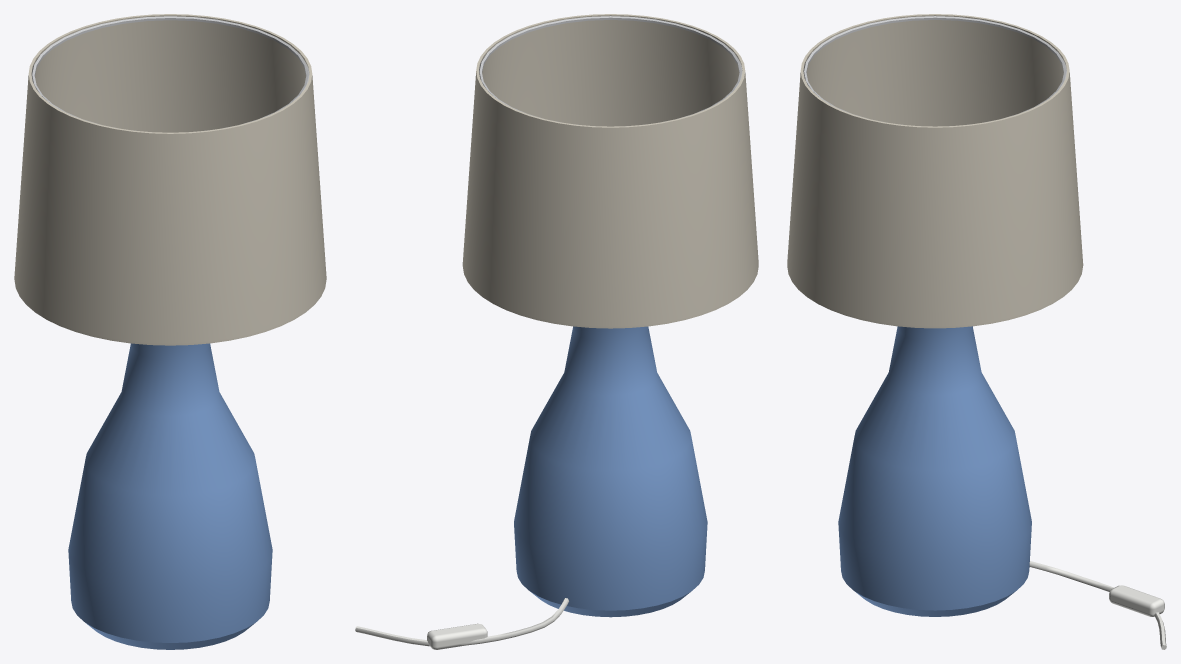
Rendered from furniture_lamp_bedside.fbx.
3 renders of one model, left to right at view 1: azimuth 30°, elevation 25°; view 2: azimuth 150°, elevation 25°; view 3: azimuth 270°, elevation 25°, orthographic. The views are drawn at different scales.
Parts seen in each view (by area): view 1: furniture_lamp_bedside; view 2: furniture_lamp_bedside; view 3: furniture_lamp_bedside.
Boxes of the visible parts, bbox=[...] form: furniture_lamp_bedside: bbox=[14, 14, 326, 649]; furniture_lamp_bedside: bbox=[355, 14, 758, 649]; furniture_lamp_bedside: bbox=[787, 14, 1166, 649].
Bounding box in the file's own units: 0.2301 × 0.42 × 0.2822.
